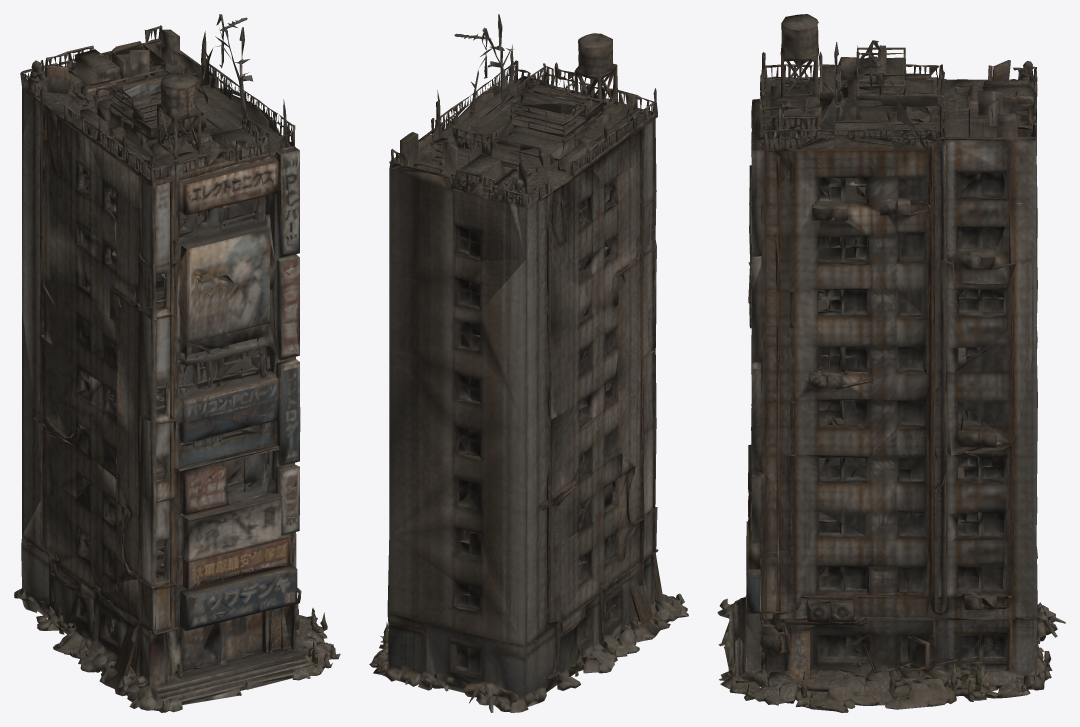
File: Akiba_building_03.fbx
3 views of the same model, side by side, from view 1: azimuth 30°, elevation 25°; view 2: azimuth 150°, elevation 25°; view 3: azimuth 270°, elevation 25° (orthographic). The views are drawn at different scales.
Parts seen in each view (by area): view 1: output_unwrapped; view 2: output_unwrapped; view 3: output_unwrapped.
Part boxes in pixels (left/top/right/bottom): output_unwrapped: left=14, top=14, right=340, bottom=712; output_unwrapped: left=369, top=14, right=688, bottom=712; output_unwrapped: left=717, top=14, right=1065, bottom=712.
Size of the model in its own units: 75.27 by 190 by 94.75.
Materials: 1 (1 with a texture image).
